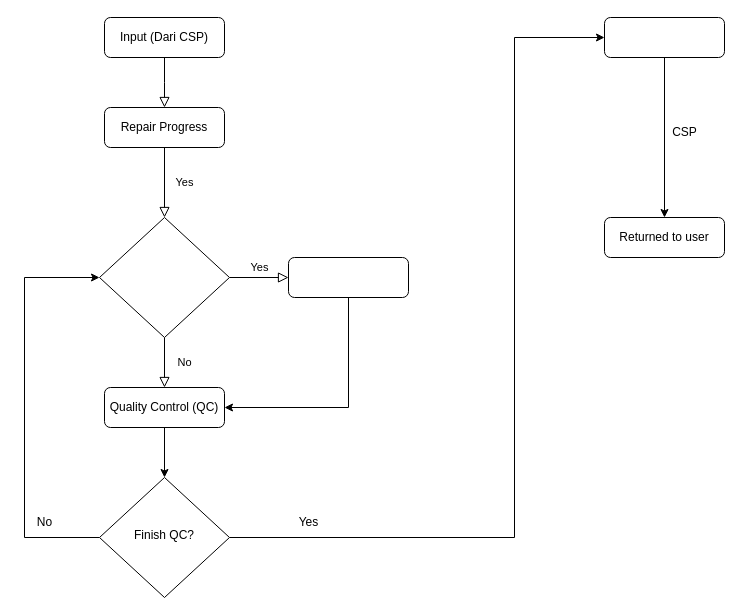
This 742x615 diagram has some shape labels left out. The shapes that lost their labels are listed below. From the top down, each one's centre as x and y in pixels, then its label:
At (x=664, y=37): "Finish Repair/Close Information".
At (x=164, y=277): "RMA/Parts (request ke vendor)".
At (x=348, y=277): "Order Part/Barang".
